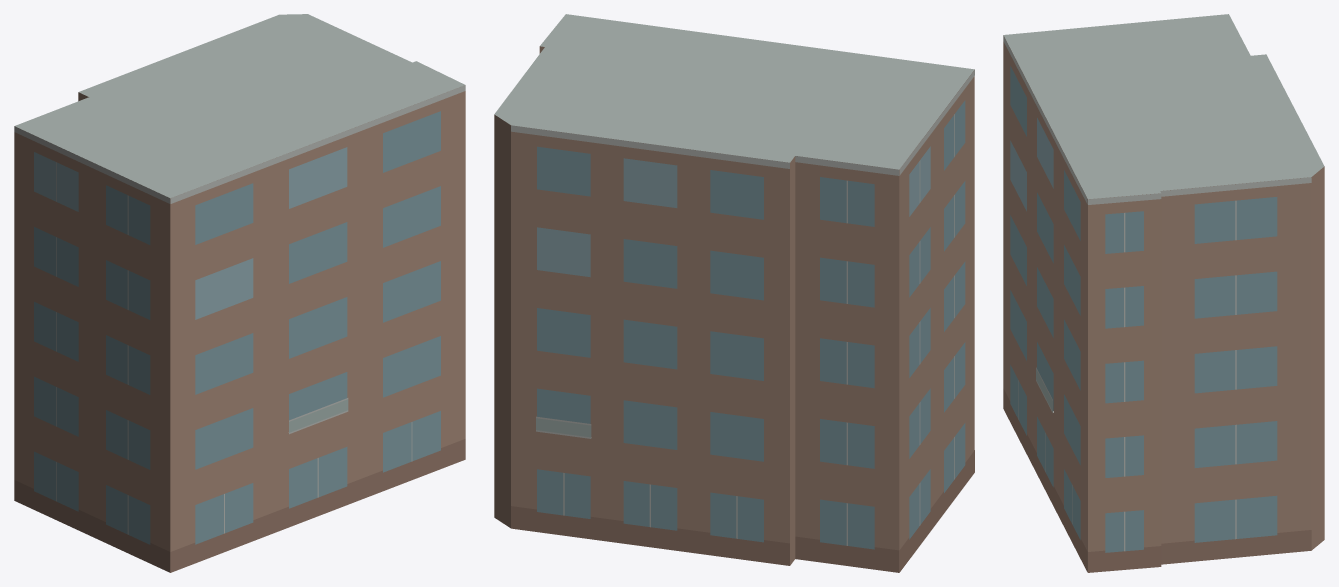
Rendered from survey-upis-32935261.glb.
3 views of the same model, side by side, from view 1: azimuth 30°, elevation 25°; view 2: azimuth 150°, elevation 25°; view 3: azimuth 270°, elevation 25° (orthographic). The views are drawn at different scales.
Parts seen in each view (by area): view 1: survey-upis-32935261.tmp; view 2: survey-upis-32935261.tmp; view 3: survey-upis-32935261.tmp.
Part boxes in pixels (<box>): survey-upis-32935261.tmp: <box>14,14,465,572</box>; survey-upis-32935261.tmp: <box>494,14,974,572</box>; survey-upis-32935261.tmp: <box>1003,14,1324,572</box>.
Bounding box in the file's own units: 16.49 × 15.5 × 12.09.
